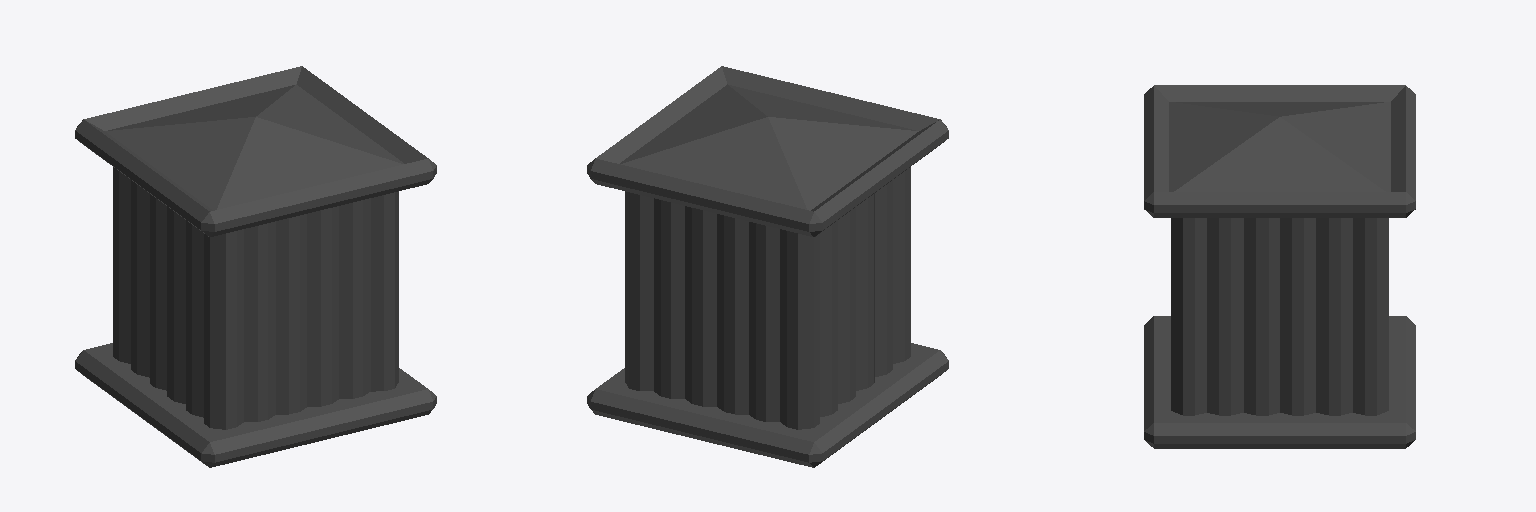
Rendered from poteau.obj.
The picture shows the model from 3 angles: view 1: azimuth 30°, elevation 25°; view 2: azimuth 150°, elevation 25°; view 3: azimuth 270°, elevation 25°; orthographic projection.
Visible parts, largest first — view 1: Cube.001, Cube.002, Cube; view 2: Cube.001, Cube.002, Cube; view 3: Cube.001, Cube.002, Cube.
Boxes of the visible parts, x1=… form: Cube.001: x1=113, y1=167, x2=398, y2=429; Cube.002: x1=75, y1=66, x2=436, y2=236; Cube: x1=75, y1=343, x2=436, y2=467; Cube.001: x1=625, y1=167, x2=910, y2=429; Cube.002: x1=587, y1=66, x2=948, y2=236; Cube: x1=587, y1=343, x2=948, y2=467; Cube.001: x1=1171, y1=218, x2=1388, y2=415; Cube.002: x1=1144, y1=85, x2=1415, y2=217; Cube: x1=1144, y1=316, x2=1415, y2=448.
Size of the model in its own units: 2 by 2.26 by 2.